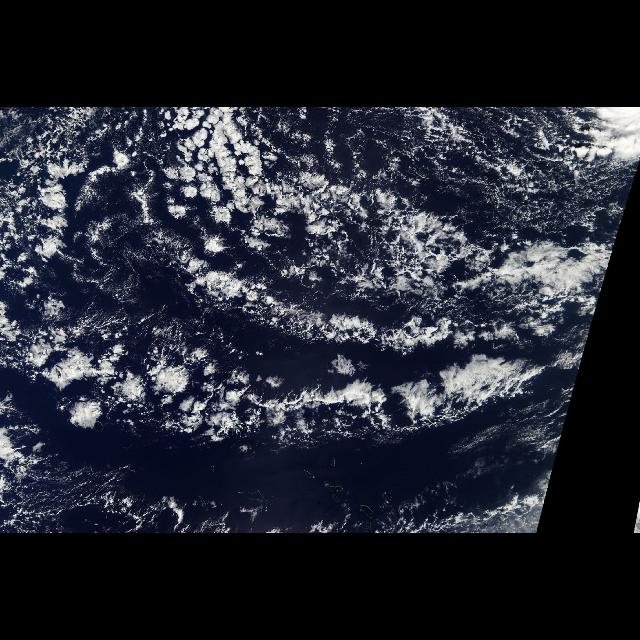Flower: (3, 293, 320, 471), (146, 109, 362, 281)
Gravel: (125, 111, 587, 357)
